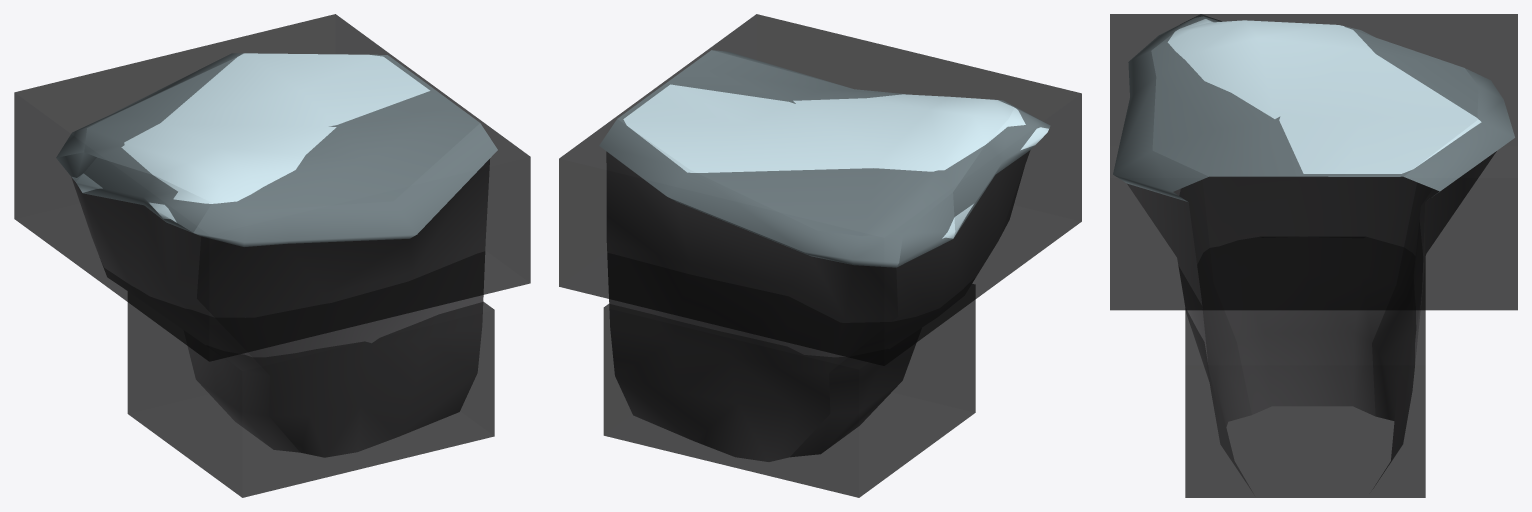
The model's file is Cliffside_2.fbx.
3 views of the same model, side by side, from view 1: azimuth 30°, elevation 25°; view 2: azimuth 150°, elevation 25°; view 3: azimuth 270°, elevation 25° (orthographic). The views are drawn at different scales.
Parts seen in each view (by area): view 1: Cliffside_2, Cliffside_2_BBox, Cliffside_2_BBox1; view 2: Cliffside_2, Cliffside_2_BBox, Cliffside_2_BBox1; view 3: Cliffside_2, Cliffside_2_BBox, Cliffside_2_BBox1.
Boxes of the visible parts, <box> form: Cliffside_2: <box>56,53,497,457</box>; Cliffside_2_BBox: <box>14,14,530,361</box>; Cliffside_2_BBox1: <box>127,292,494,497</box>; Cliffside_2: <box>599,50,1050,461</box>; Cliffside_2_BBox: <box>559,14,1081,365</box>; Cliffside_2_BBox1: <box>603,284,975,497</box>; Cliffside_2: <box>1113,14,1514,493</box>; Cliffside_2_BBox: <box>1110,14,1517,310</box>; Cliffside_2_BBox1: <box>1185,237,1425,497</box>.
Bounding box in the file's own units: 22.39 × 20.83 × 22.86.
2 materials, 1 textured.
